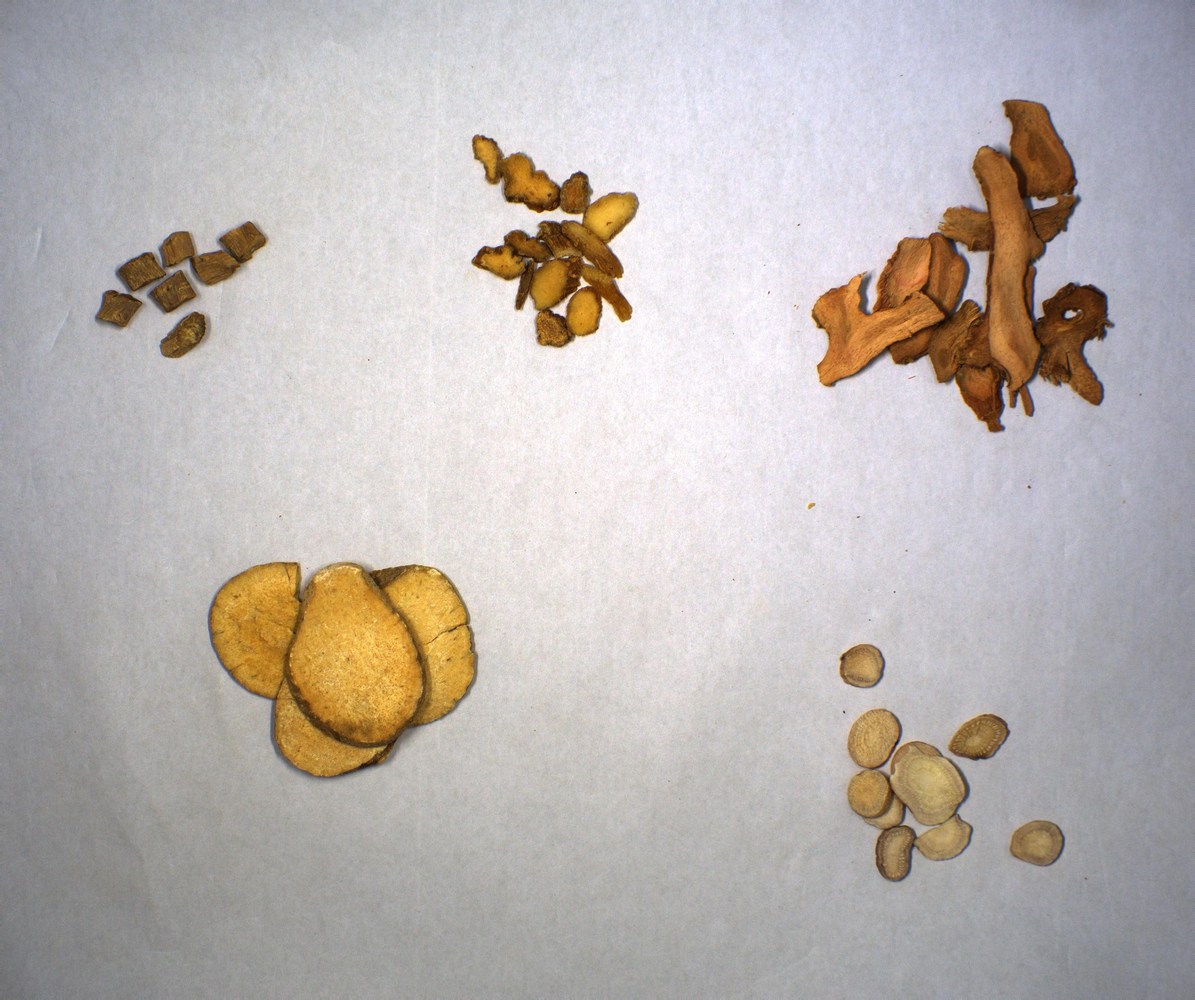baishao: (837, 643, 1068, 887)
gaoliangjiang: (811, 98, 1116, 437)
niuxi: (93, 218, 271, 359)
yuzhu: (468, 132, 641, 354)
zexie: (206, 560, 478, 779)
